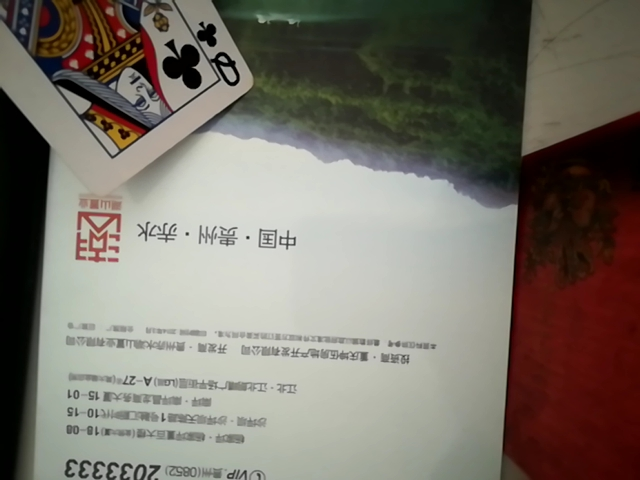mh q: (0, 4, 263, 252)
